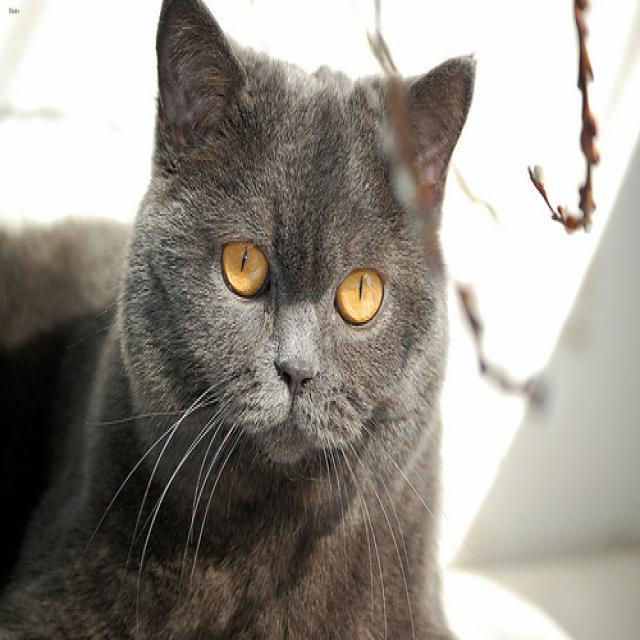British_Shorthair: (147, 0, 475, 465)
